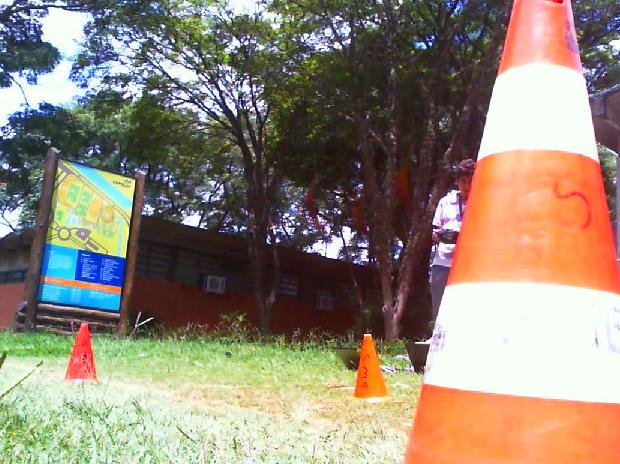0 cone: (401, 0, 620, 464), (351, 333, 391, 401), (65, 323, 98, 385)
